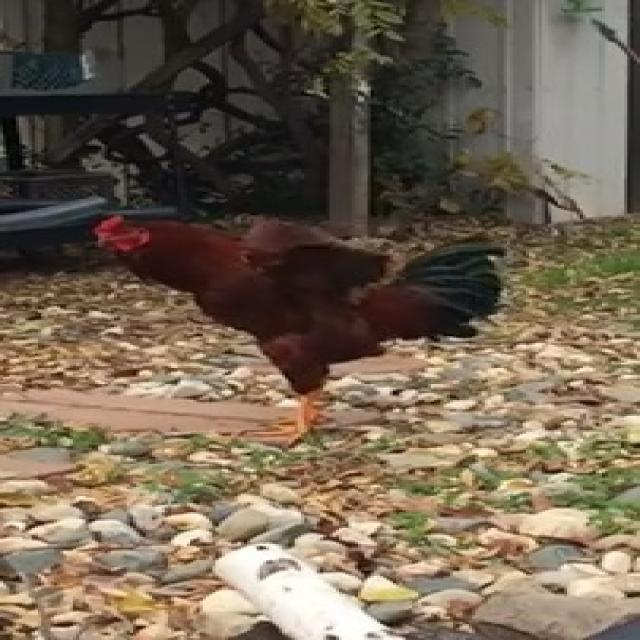wing flap: (70, 210, 503, 457)
